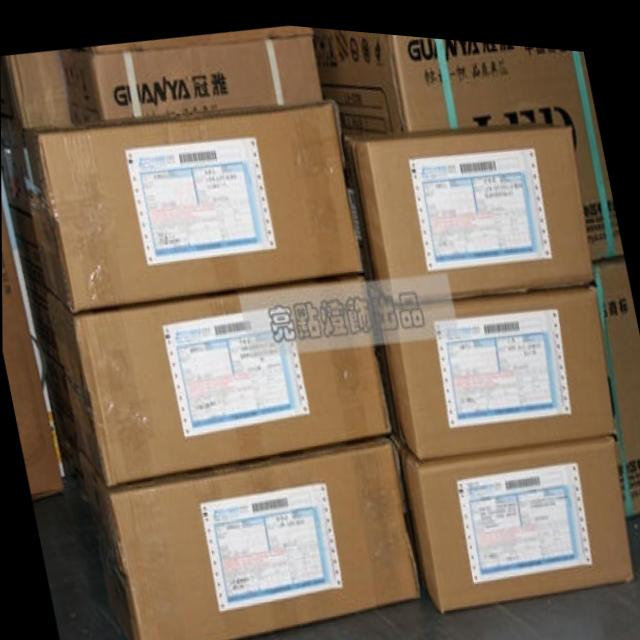box: (14, 94, 363, 313), (44, 268, 391, 486), (77, 429, 420, 640), (312, 22, 623, 249), (348, 116, 594, 297), (377, 273, 614, 453), (400, 425, 634, 605), (59, 29, 324, 124), (1, 197, 64, 499), (590, 249, 640, 505), (0, 49, 72, 131)
